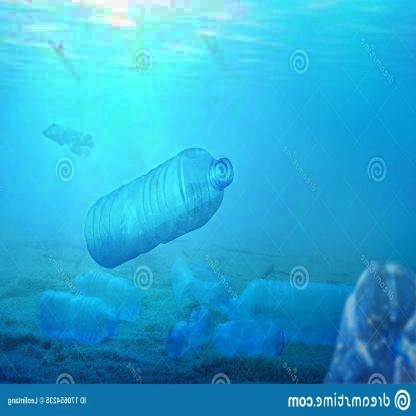pbottle: (84, 146, 234, 271), (38, 292, 120, 342)
